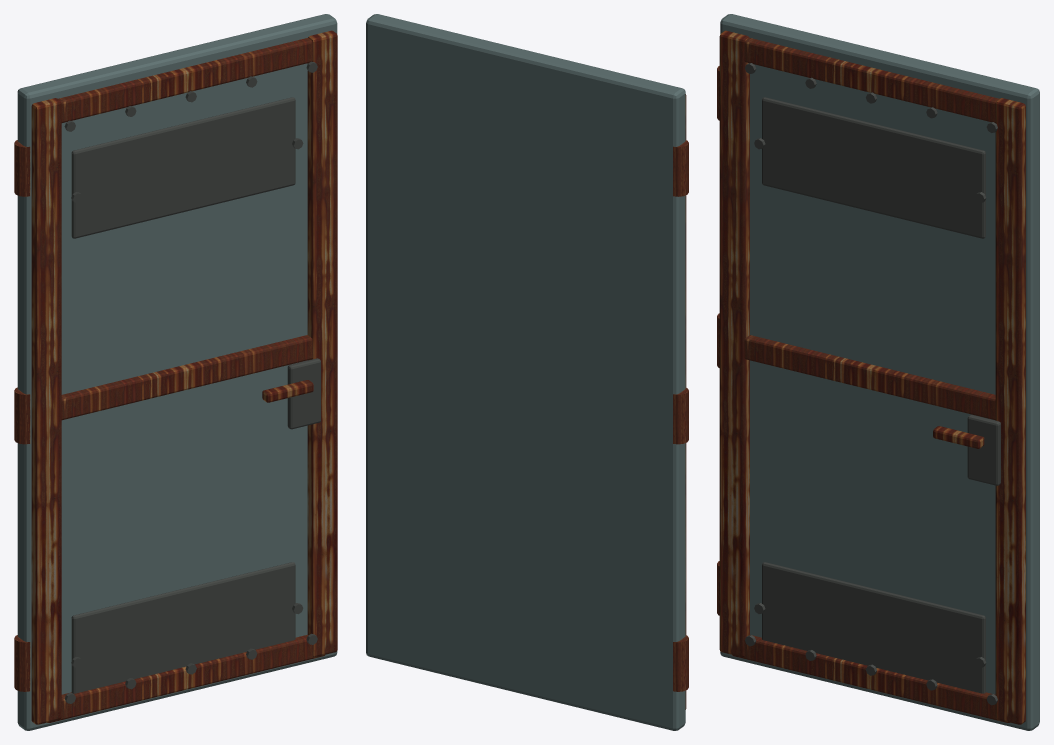
File: metal_door.glb
The picture shows the model from 3 angles, left to right: view 1: azimuth 30°, elevation 25°; view 2: azimuth 150°, elevation 25°; view 3: azimuth 330°, elevation 25°; orthographic projection.
Parts seen in each view (by area): view 1: Pressed steel leaf, Recessed door field.001, Perimeter stile, Perimeter stile.001, Recessed door field, Pressed horizontal reinforcement.001, Pressed horizontal reinforcement.002, Pressed horizontal reinforcement, Lock plate, Hinge barrel.001, Hinge barrel.002, Hinge barrel (+1 smaller); view 2: Pressed steel leaf, Perimeter stile, Hinge barrel.001, Hinge barrel, Hinge barrel.002; view 3: Pressed steel leaf, Recessed door field.001, Perimeter stile, Perimeter stile.001, Recessed door field, Pressed horizontal reinforcement.002, Pressed horizontal reinforcement.001, Pressed horizontal reinforcement, Lock plate, Lever handle.
Boxes of the visible parts, bbox=[...] form: Pressed steel leaf: bbox=[17, 14, 337, 730]; Recessed door field.001: bbox=[71, 97, 295, 238]; Perimeter stile: bbox=[31, 98, 61, 724]; Perimeter stile.001: bbox=[307, 30, 337, 657]; Recessed door field: bbox=[71, 562, 295, 693]; Pressed horizontal reinforcement.001: bbox=[61, 335, 312, 420]; Pressed horizontal reinforcement.002: bbox=[58, 38, 312, 122]; Pressed horizontal reinforcement: bbox=[47, 635, 324, 722]; Lock plate: bbox=[287, 358, 320, 429]; Hinge barrel.001: bbox=[14, 387, 30, 444]; Hinge barrel.002: bbox=[14, 140, 30, 196]; Hinge barrel: bbox=[14, 635, 30, 691]; Pressed steel leaf: bbox=[366, 14, 685, 730]; Perimeter stile: bbox=[685, 94, 686, 709]; Hinge barrel.001: bbox=[673, 387, 688, 444]; Hinge barrel: bbox=[673, 635, 688, 691]; Hinge barrel.002: bbox=[673, 140, 688, 196]; Pressed steel leaf: bbox=[720, 14, 1039, 730]; Recessed door field.001: bbox=[762, 97, 985, 238]; Perimeter stile: bbox=[719, 30, 749, 657]; Perimeter stile.001: bbox=[995, 98, 1025, 724]; Recessed door field: bbox=[762, 562, 985, 693]; Pressed horizontal reinforcement.002: bbox=[744, 37, 999, 122]; Pressed horizontal reinforcement.001: bbox=[744, 335, 995, 420]; Pressed horizontal reinforcement: bbox=[732, 635, 1009, 722]; Lock plate: bbox=[967, 415, 1000, 485]; Lever handle: bbox=[933, 426, 984, 448].
Size of the model in its own units: 1.21 by 2.32 by 0.16.
Materials: 3 (1 with a texture image).
